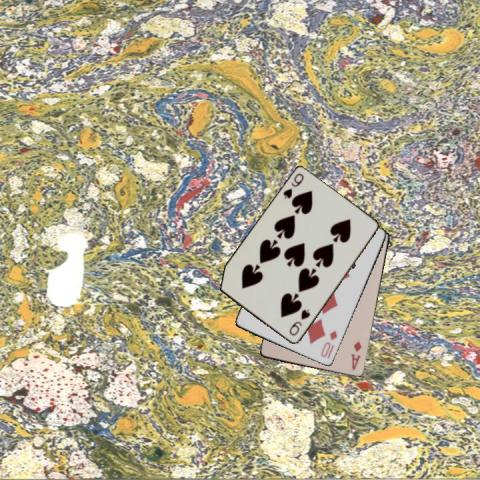10d: (318, 328, 339, 359)
9s: (286, 306, 311, 337), (280, 170, 305, 201)
Ad: (348, 338, 362, 371)
